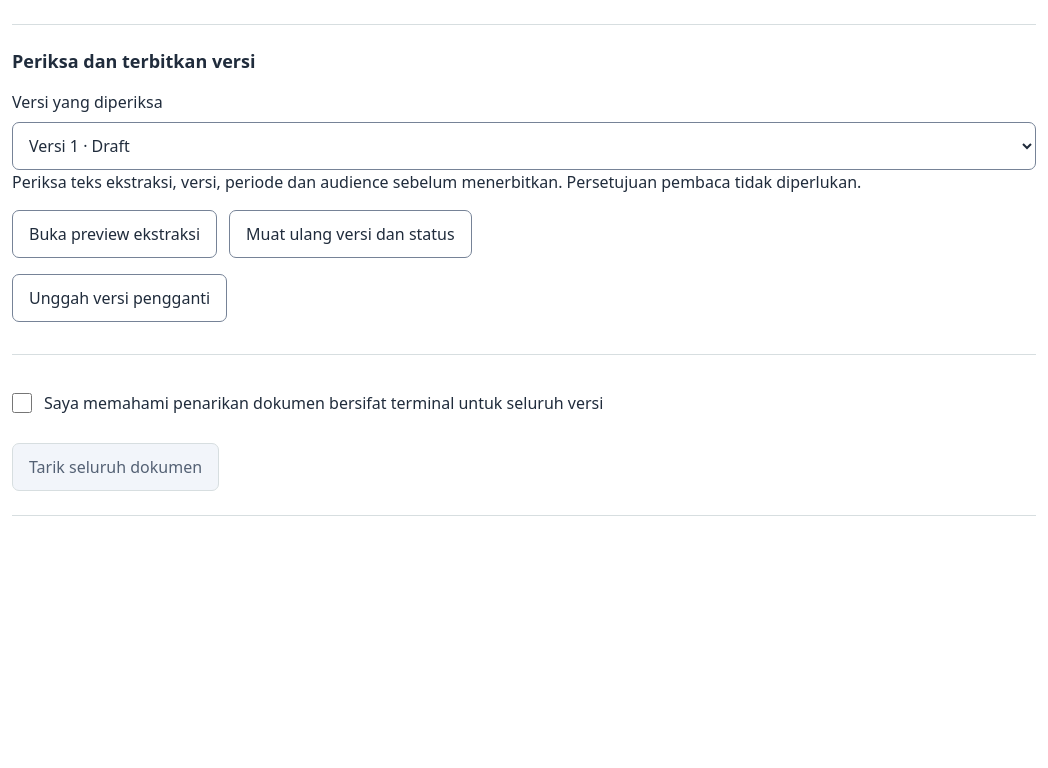
Scenario: requires a fresh extracted preview and explicit review before publish, escaping source HTML as text
The image size is (1048, 768).
Expected: the button "Terbitkan versi ini" is not shown
Click the button "Buka preview ekstraksi": click(115, 234) [12, 210, 217, 258]
(page scrolled)
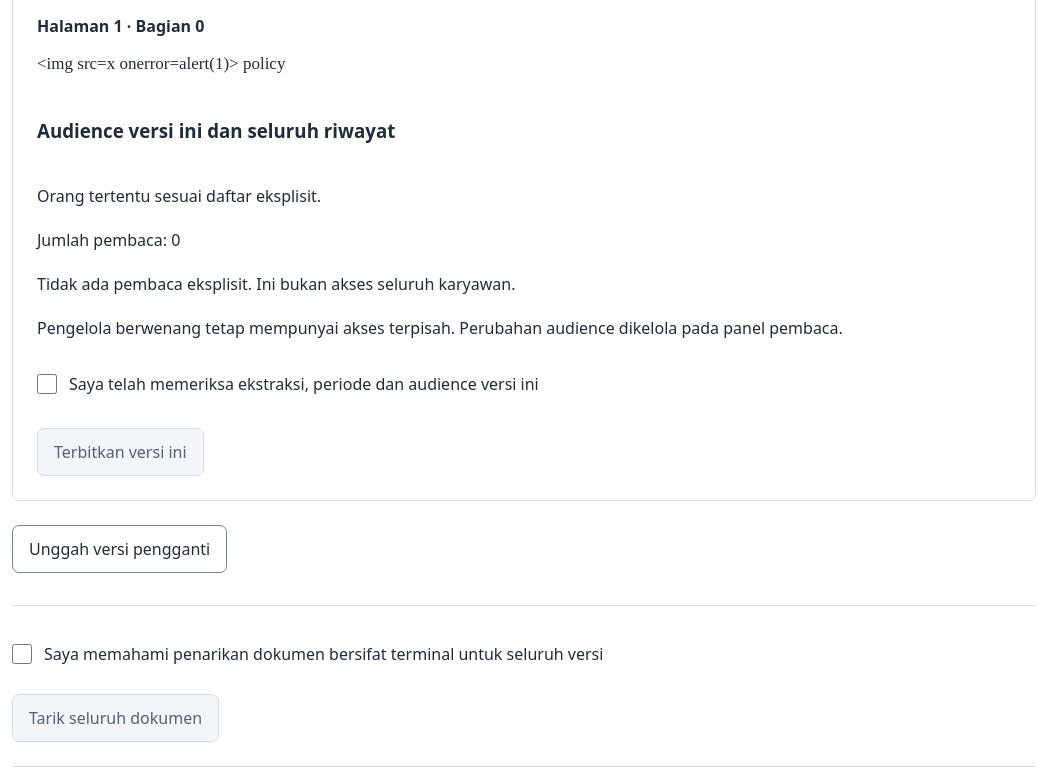
Expected: the text "<img src=x onerror=alert(1)> policy" is shown, [37, 54, 285, 73]
Expected: the button "Terbitkan versi ini" is disabled, [37, 428, 204, 476]
Click the 1st checkbox: click(47, 384) [37, 374, 57, 394]
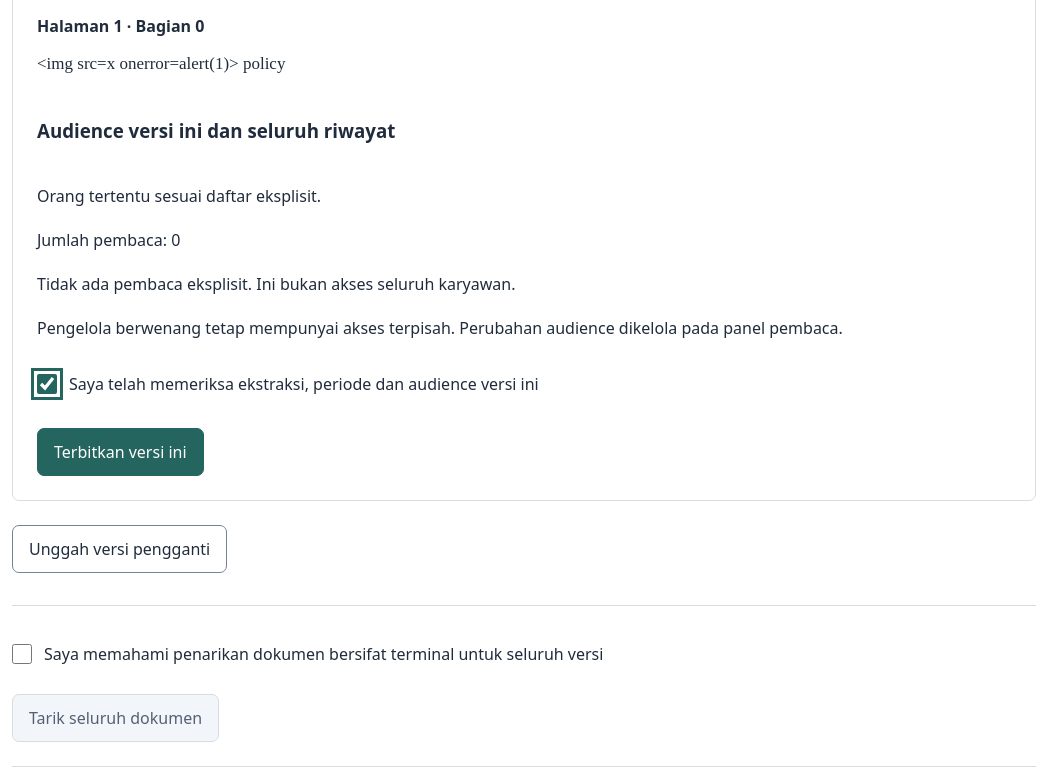
Click the button "Terbitkan versi ini": click(120, 452) [37, 428, 204, 476]
(page scrolled)
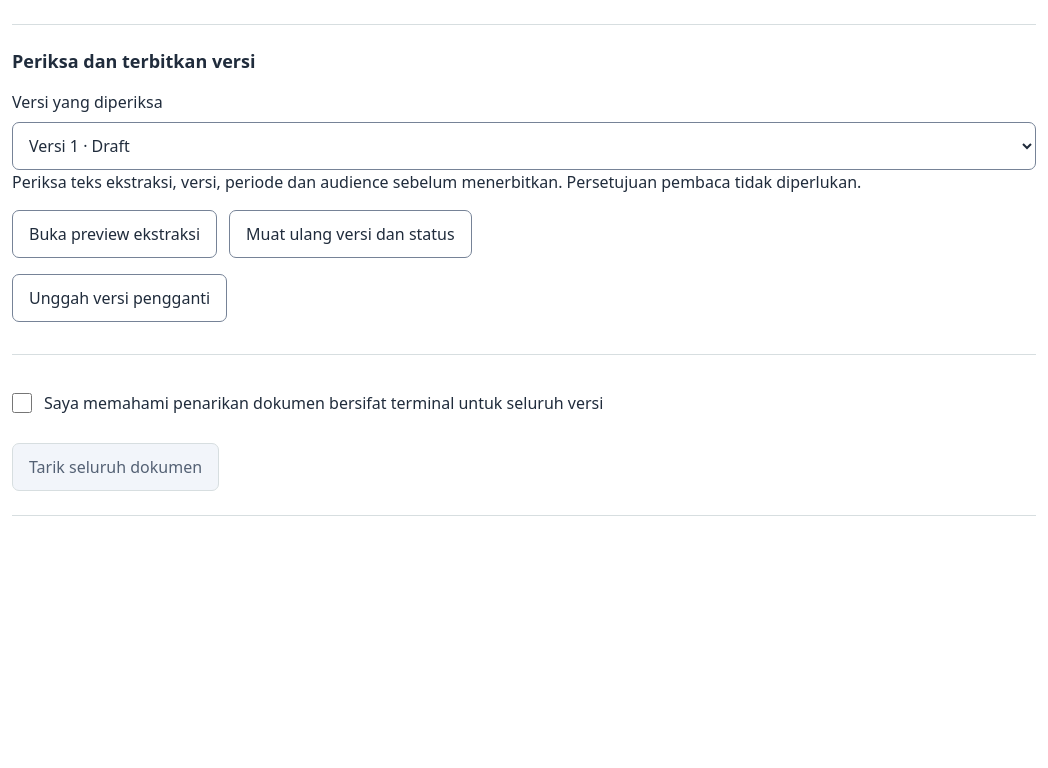
Expected: the text "<img src=x onerror=alert(1)> policy" is gone
